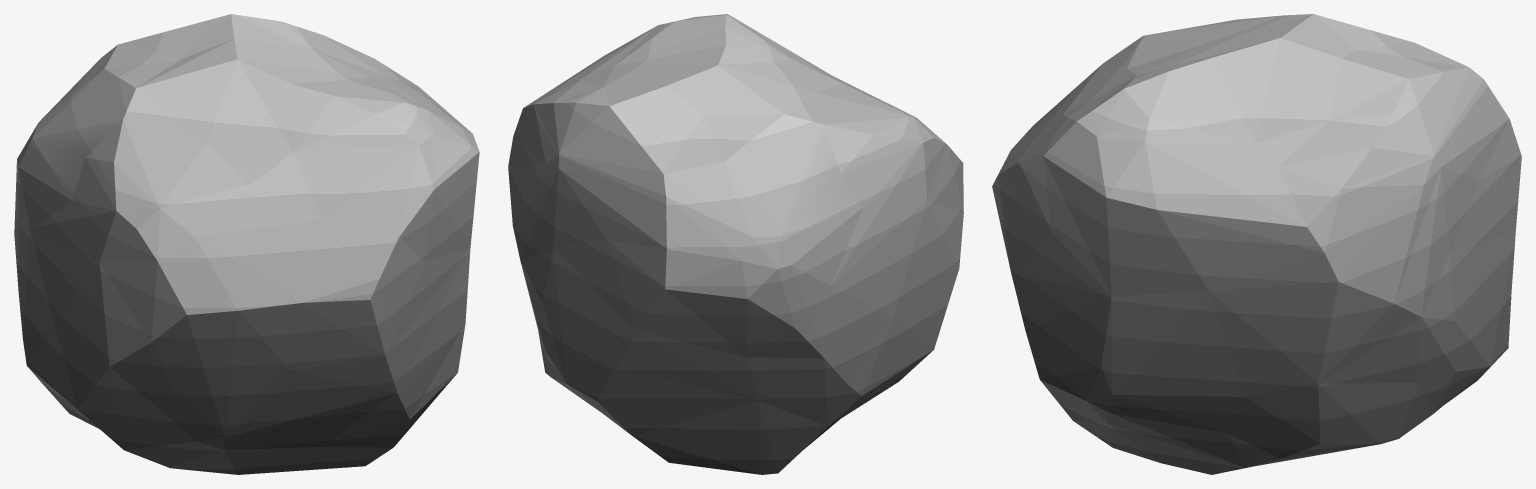
File: Prefab_Rock_C.glb
The picture shows the model from 3 angles, left to right: view 1: azimuth 30°, elevation 25°; view 2: azimuth 150°, elevation 25°; view 3: azimuth 270°, elevation 25°; orthographic projection. The views are drawn at different scales.
Parts seen in each view (by area): view 1: Rock_Fractured_B; view 2: Rock_Fractured_B; view 3: Rock_Fractured_B.
Boxes of the visible parts, x1,y1,x2,y2 form: Rock_Fractured_B: (14, 14, 479, 474); Rock_Fractured_B: (508, 14, 963, 474); Rock_Fractured_B: (992, 14, 1521, 474).
Size of the model in its own units: 1.78 by 1.64 by 1.97.
1 material, 1 textured.
